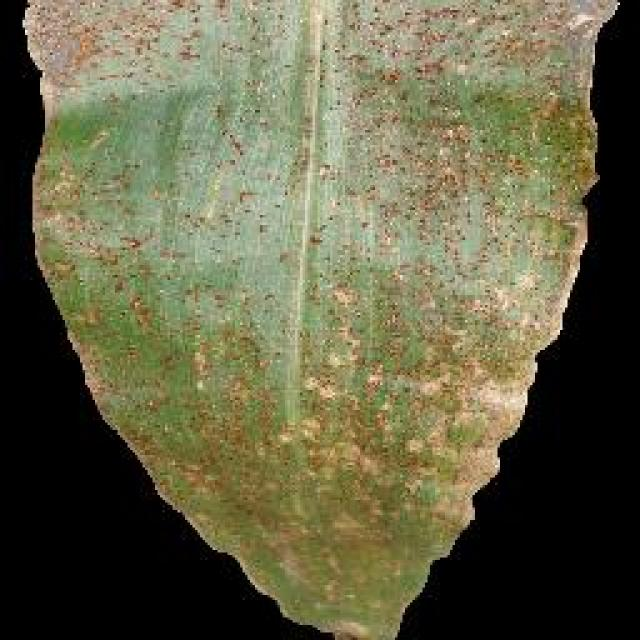Corn___Common_rust: (12, 0, 628, 640)
